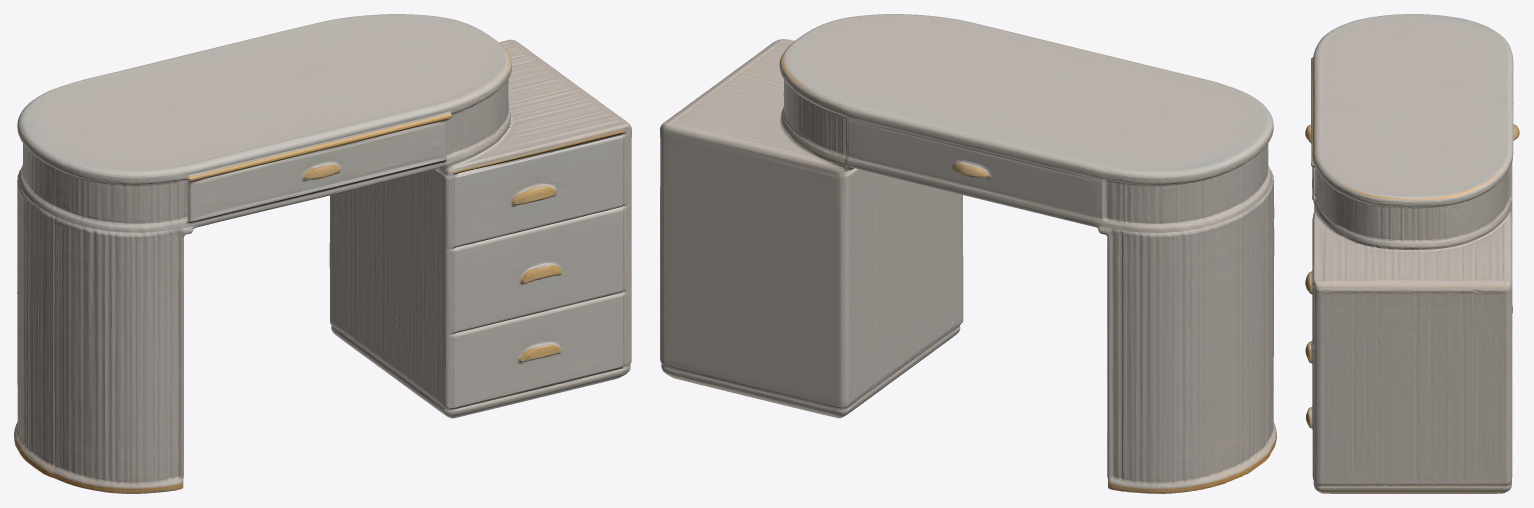
Rendered from makyajmasasi-2k.glb.
3 renders of one model, left to right at view 1: azimuth 30°, elevation 25°; view 2: azimuth 150°, elevation 25°; view 3: azimuth 270°, elevation 25°, orthographic. The views are drawn at different scales.
Visible parts, largest first — view 1: makyajmasası__tv_unitesi_1.obj; view 2: makyajmasası__tv_unitesi_1.obj; view 3: makyajmasası__tv_unitesi_1.obj.
Part boxes in pixels (bbox=[...]): makyajmasası__tv_unitesi_1.obj: bbox=[14, 14, 631, 493]; makyajmasası__tv_unitesi_1.obj: bbox=[660, 14, 1276, 493]; makyajmasası__tv_unitesi_1.obj: bbox=[1305, 14, 1519, 493].
Size of the model in its own units: 1.99 by 1.12 by 0.8163.
1 material, 1 textured.
